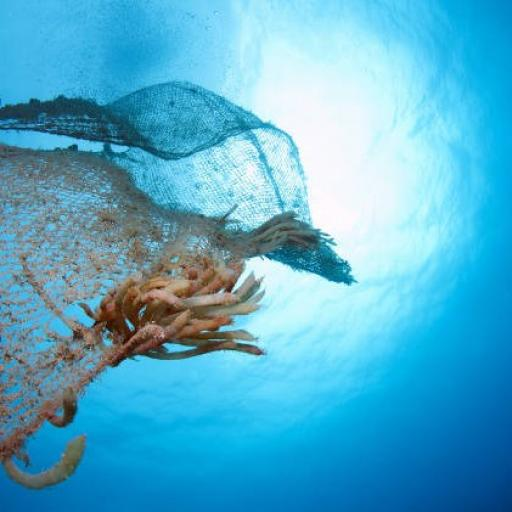net: (1, 76, 359, 486)
